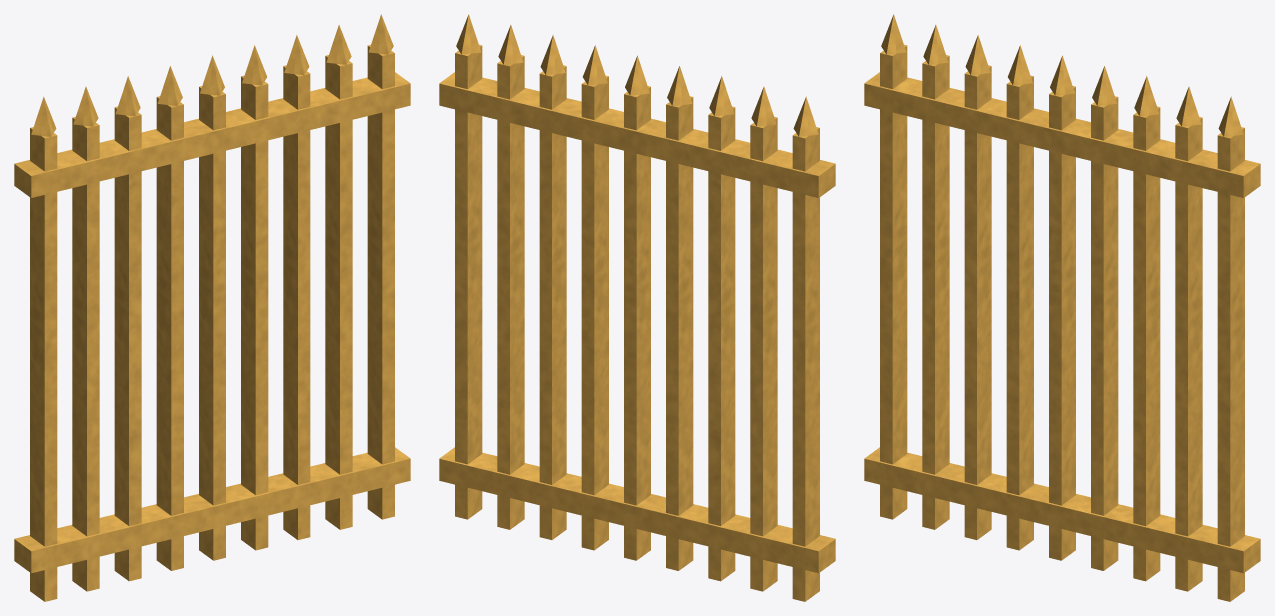
File: citadel_cellar_gate.glb
The picture shows the model from 3 angles, left to right: view 1: azimuth 30°, elevation 25°; view 2: azimuth 150°, elevation 25°; view 3: azimuth 330°, elevation 25°; orthographic projection.
Visible parts, largest first — view 1: cellar_gate_gold; view 2: cellar_gate_gold; view 3: cellar_gate_gold.
Boxes of the visible parts, <box> form: cellar_gate_gold: <box>14,14,410,601</box>; cellar_gate_gold: <box>439,14,835,601</box>; cellar_gate_gold: <box>864,14,1260,601</box>.
Bounding box in the file's own units: 1.8 × 2.26 × 0.14.
Materials: 1 (1 with a texture image).
